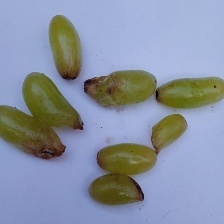grapes: (44, 26, 216, 209)
